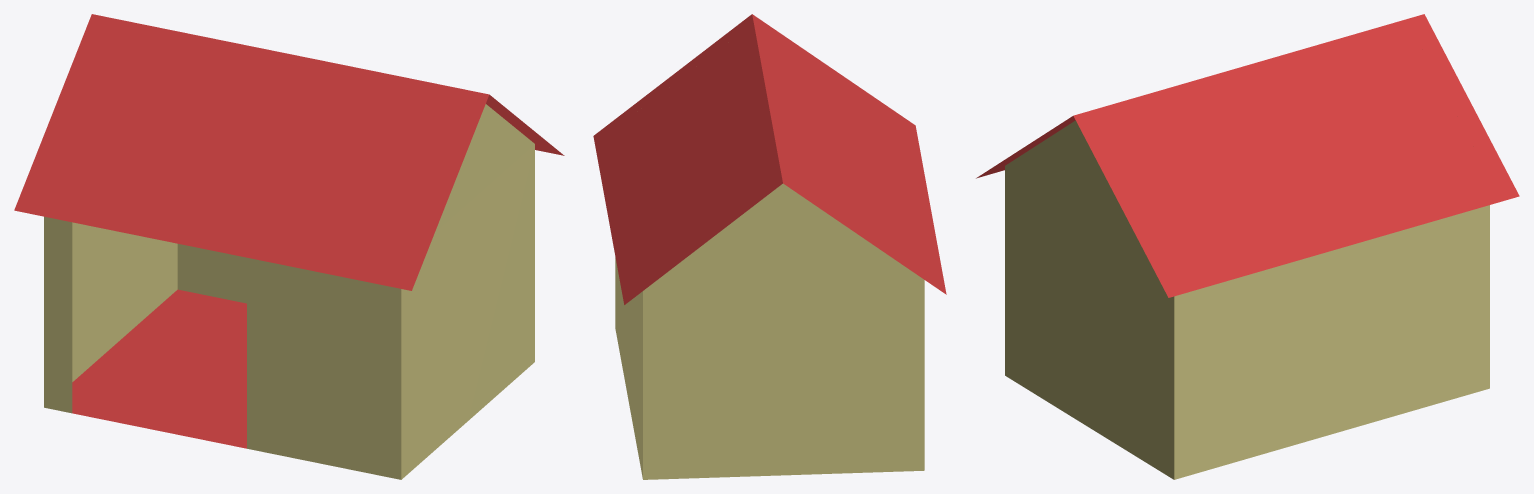
3 renders of one model, left to right at view 1: azimuth 30°, elevation 25°; view 2: azimuth 150°, elevation 25°; view 3: azimuth 270°, elevation 25°, orthographic. The views are drawn at different scales.
Size of the model in its own units: 18.23 by 18.99 by 12.24.
